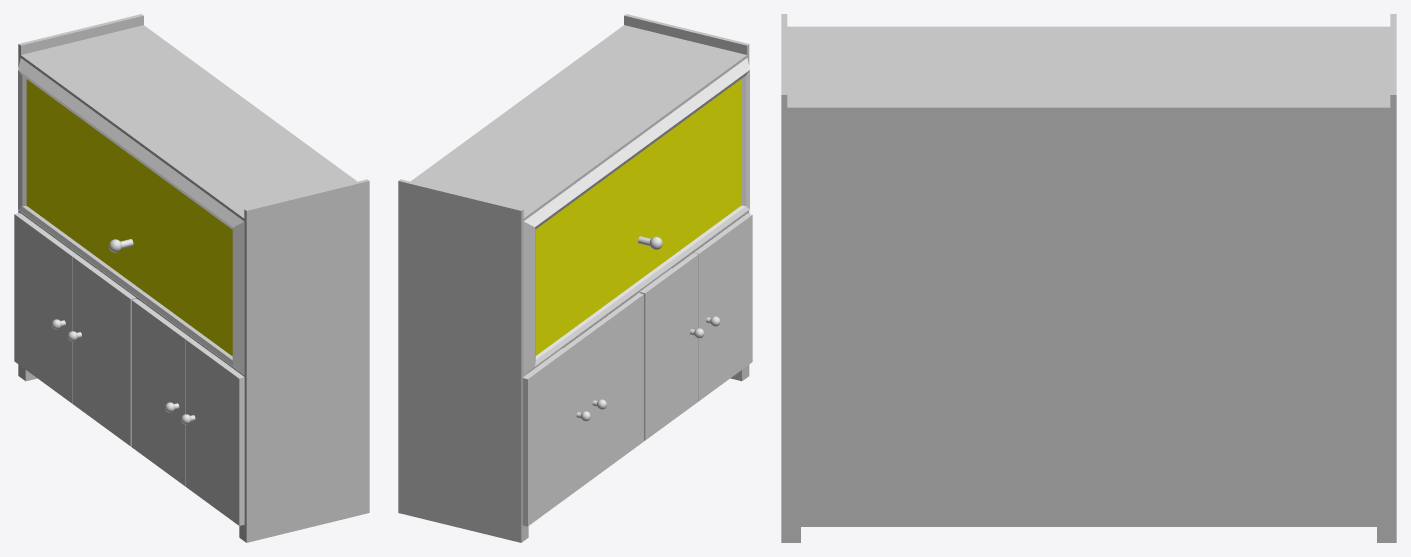
File: MiceShelf.fbx
The picture shows the model from 3 angles, left to right: view 1: azimuth 30°, elevation 25°; view 2: azimuth 150°, elevation 25°; view 3: azimuth 270°, elevation 25°; orthographic projection. The views are drawn at different scales.
Parts seen in each view (by area): view 1: MiceShelf, Door8, Door10, Door12, Door9, Door11; view 2: MiceShelf, Door8, Door9, Door10, Door11, Door12; view 3: MiceShelf.
Part boxes in pixels (left/top/right/bottom): MiceShelf: left=18, top=14, right=369, bottom=542; Door8: left=18, top=58, right=244, bottom=375; Door10: left=67, top=255, right=135, bottom=446; Door12: left=181, top=338, right=244, bottom=525; Door9: left=14, top=213, right=77, bottom=403; Door11: left=131, top=299, right=190, bottom=486; MiceShelf: left=398, top=14, right=749, bottom=542; Door8: left=523, top=58, right=749, bottom=374; Door9: left=522, top=335, right=590, bottom=526; Door10: left=581, top=293, right=643, bottom=483; Door11: left=640, top=253, right=704, bottom=440; Door12: left=694, top=213, right=752, bottom=400; MiceShelf: left=781, top=14, right=1396, bottom=542.
Bounding box in the file's own units: 2.58 × 5.53 × 6.88.
